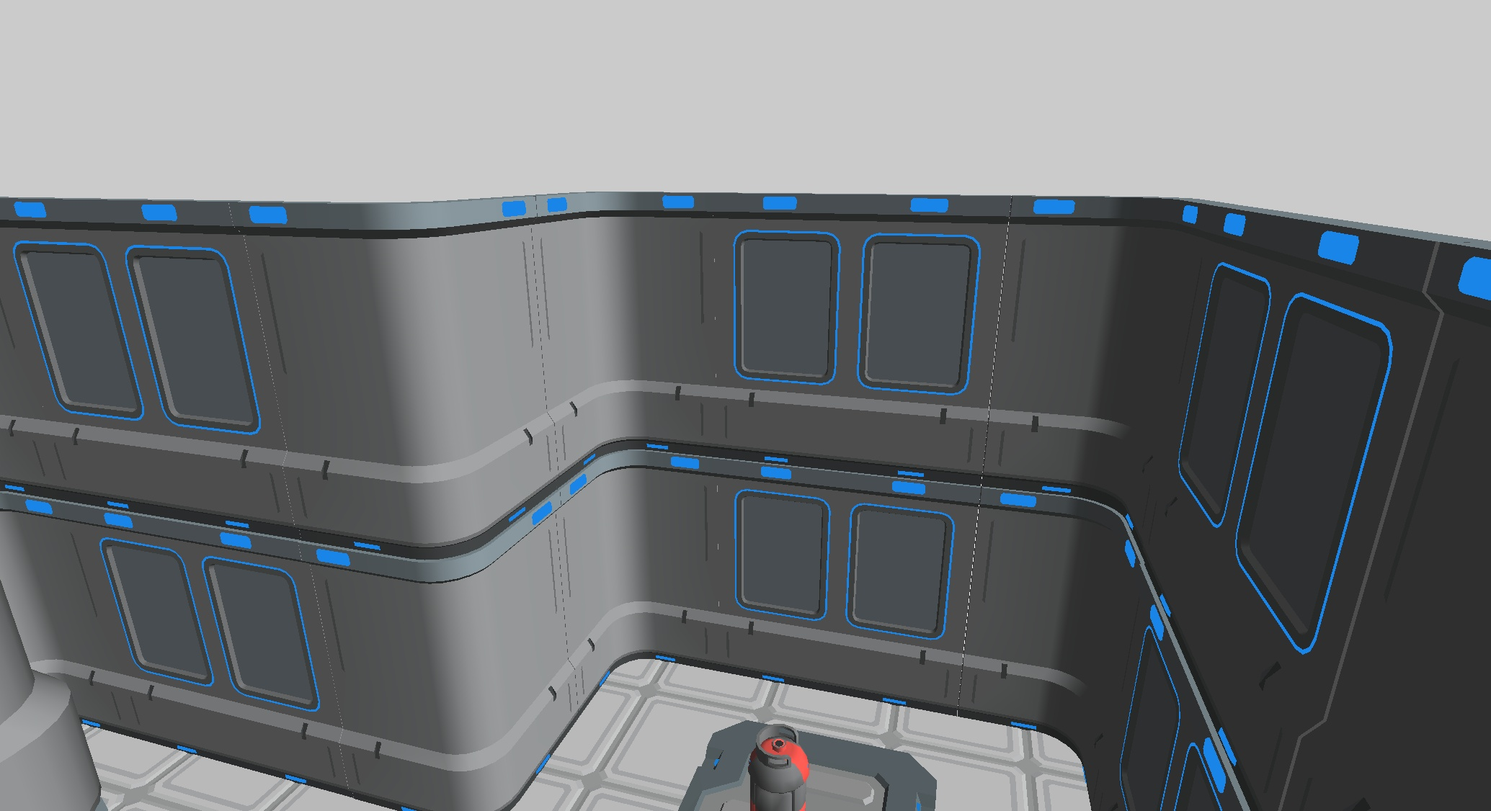red_barrel: (748, 725, 809, 810)
